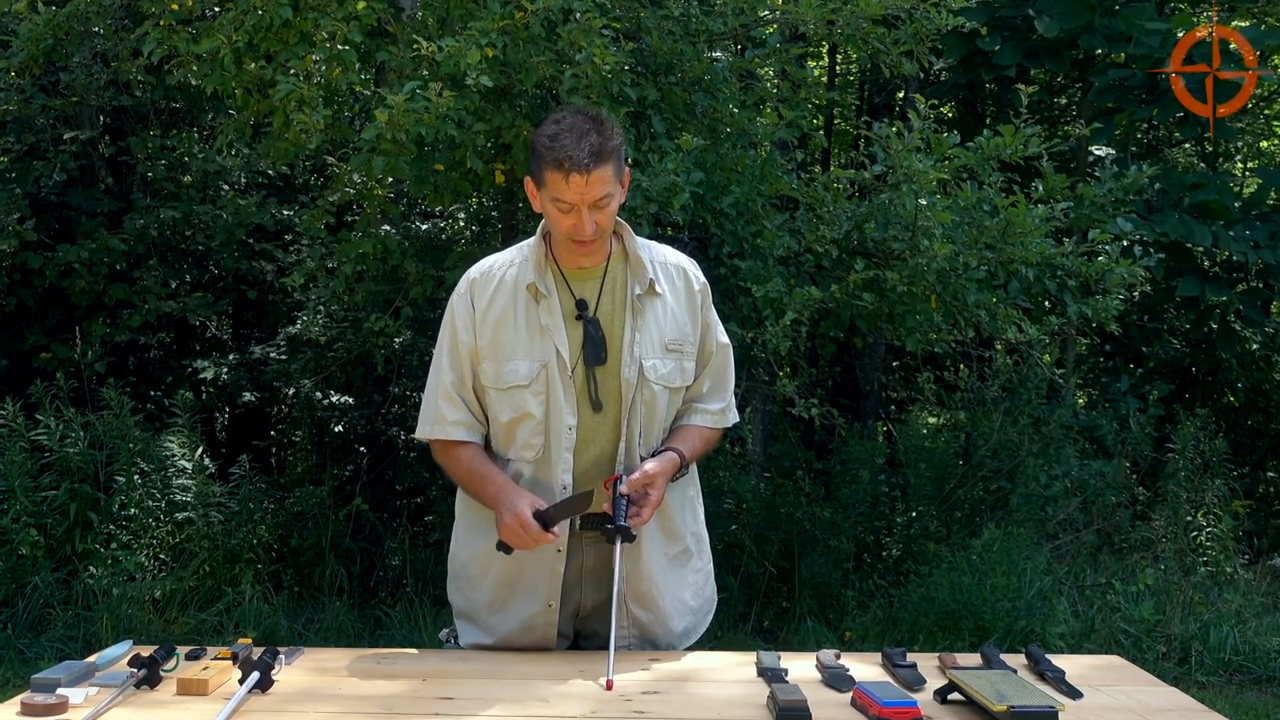knife: (494, 484, 600, 557)
